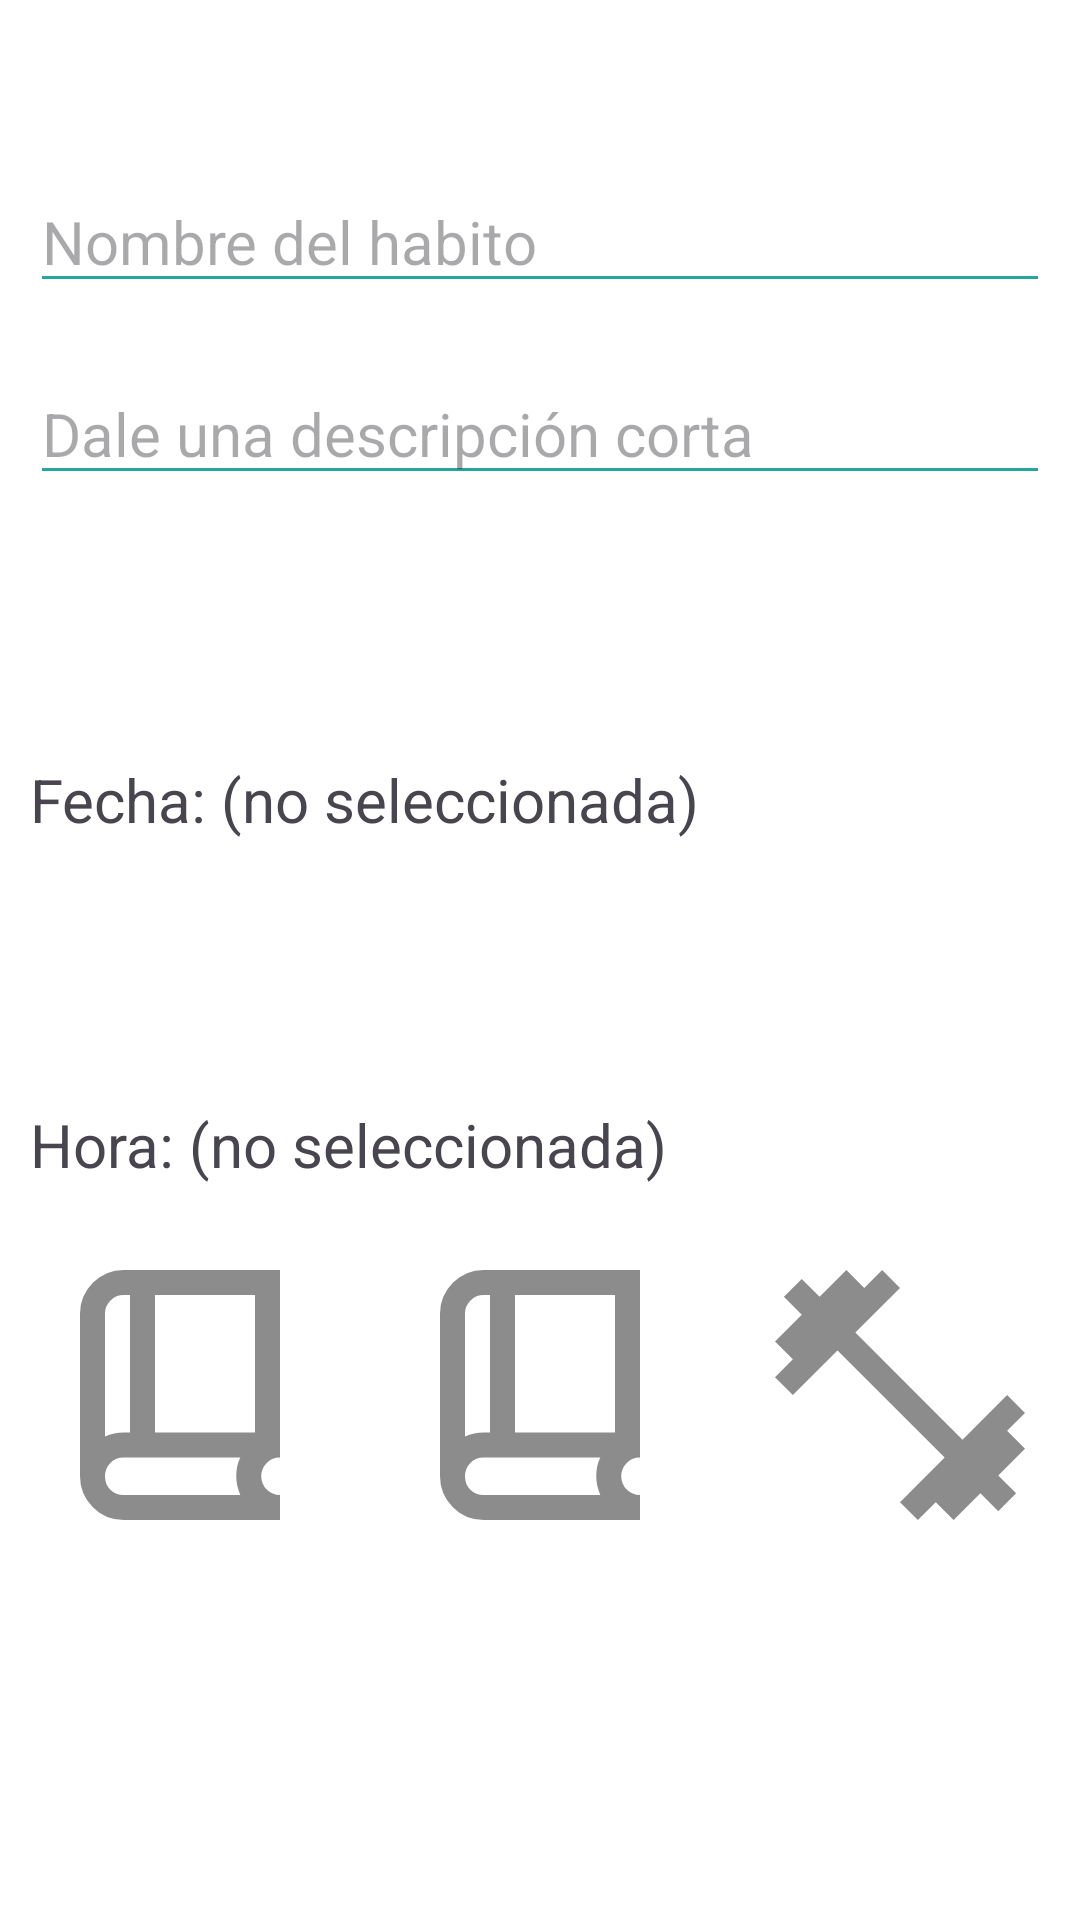

Icon bounding boxes for this 1080×1920 phone screenshot, format region(x1, y1, x2, y2):
book: region(80, 1270, 280, 1520), region(440, 1270, 640, 1520)
fitness: region(775, 1270, 1025, 1520)
